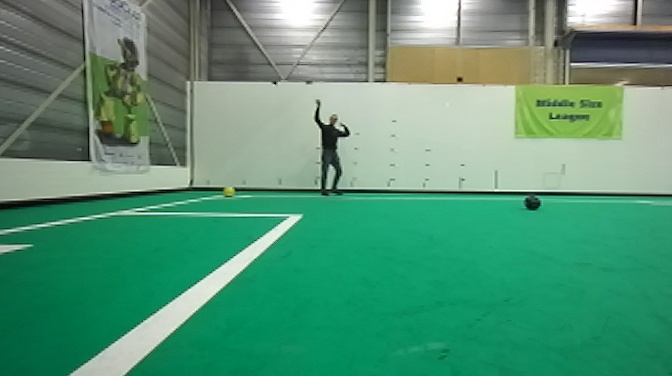ball: (522, 191, 546, 214), (221, 184, 238, 199)
human: (308, 106, 353, 197)
